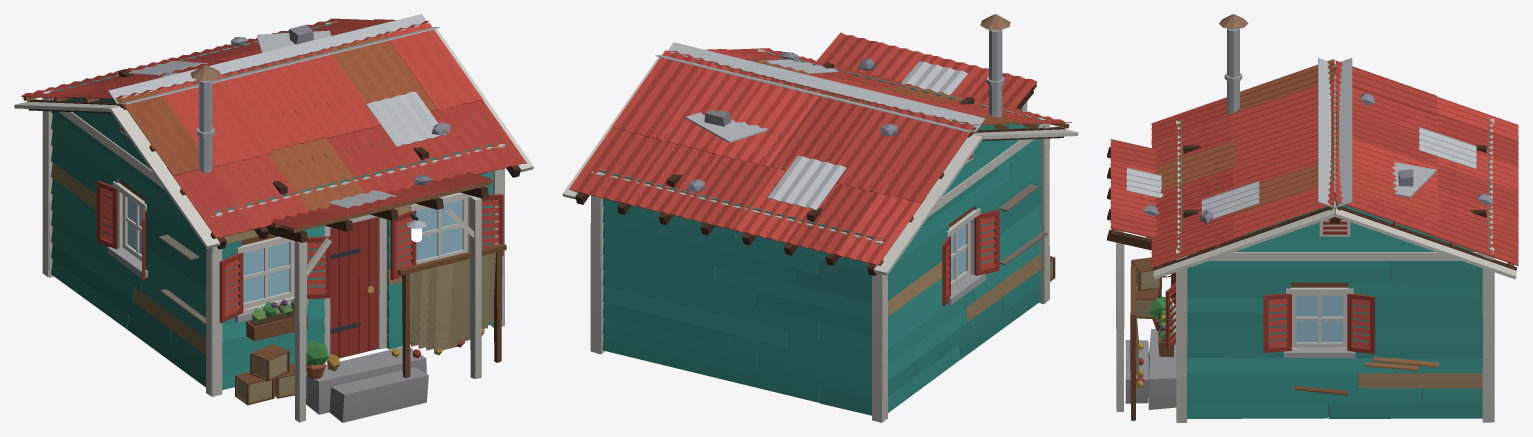
3 renders of one model, left to right at view 1: azimuth 30°, elevation 25°; view 2: azimuth 150°, elevation 25°; view 3: azimuth 270°, elevation 25°, orthographic. The views are drawn at different scales.
Visible parts, largest first — view 1: H05_ROOF, H05_WALL_S, H05_WALL_W, H05_BASE, H05_DOOR_main, H05_WALL_N; view 2: H05_ROOF, H05_WALL_N, H05_WALL_W, H05_WALL_S, H05_WALL_E; view 3: H05_ROOF, H05_WALL_E, H05_WALL_S, H05_BASE, H05_WALL_N.
Boxes of the visible parts, x1,y1,x2,y2 form: H05_ROOF: (14, 14, 533, 249); H05_WALL_S: (212, 143, 506, 422); H05_WALL_W: (42, 92, 220, 396); H05_BASE: (306, 347, 428, 422); H05_DOOR_main: (330, 217, 378, 357); H05_WALL_N: (42, 21, 334, 277); H05_ROOF: (562, 14, 1078, 275); H05_WALL_N: (591, 170, 883, 422); H05_WALL_W: (880, 118, 1049, 422); H05_WALL_S: (758, 32, 1055, 304); H05_WALL_E: (590, 51, 768, 353); H05_ROOF: (1151, 14, 1518, 279); H05_WALL_E: (1176, 192, 1493, 422); H05_WALL_S: (1107, 120, 1187, 421); H05_BASE: (1125, 329, 1176, 409); H05_WALL_N: (1482, 118, 1494, 422).
Size of the model in its own units: 4.62 by 4.54 by 5.37.
